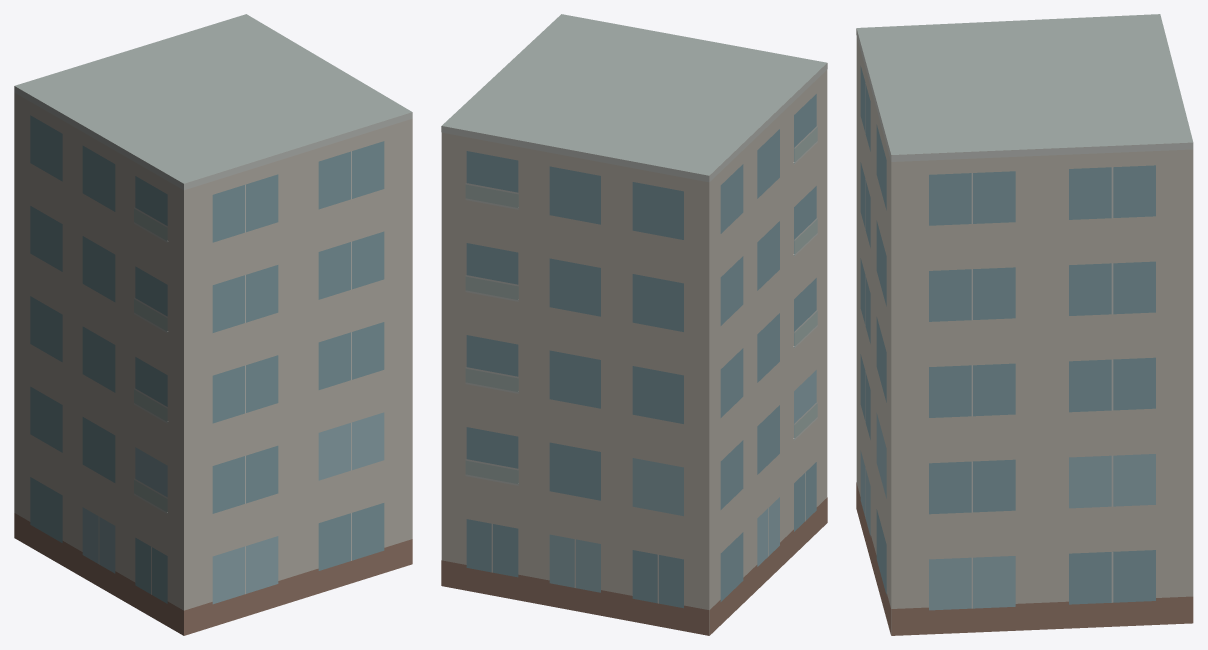
The model's file is survey-upis-32925958.glb.
3 views of the same model, side by side, from view 1: azimuth 30°, elevation 25°; view 2: azimuth 150°, elevation 25°; view 3: azimuth 270°, elevation 25° (orthographic). The views are drawn at different scales.
Visible parts, largest first — view 1: survey-upis-32925958.tmp; view 2: survey-upis-32925958.tmp; view 3: survey-upis-32925958.tmp.
Boxes of the visible parts, left/top/right/bottom form: survey-upis-32925958.tmp: left=14, top=14, right=412, bottom=635; survey-upis-32925958.tmp: left=441, top=14, right=827, bottom=635; survey-upis-32925958.tmp: left=856, top=14, right=1193, bottom=635.
Size of the model in its own units: 10.68 by 16.95 by 10.78.
